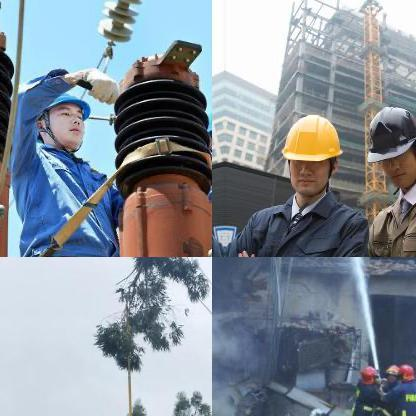Helmet: (268, 103, 346, 205), (28, 74, 96, 150), (359, 98, 415, 188), (380, 362, 400, 386), (396, 360, 416, 382), (357, 364, 377, 384)
